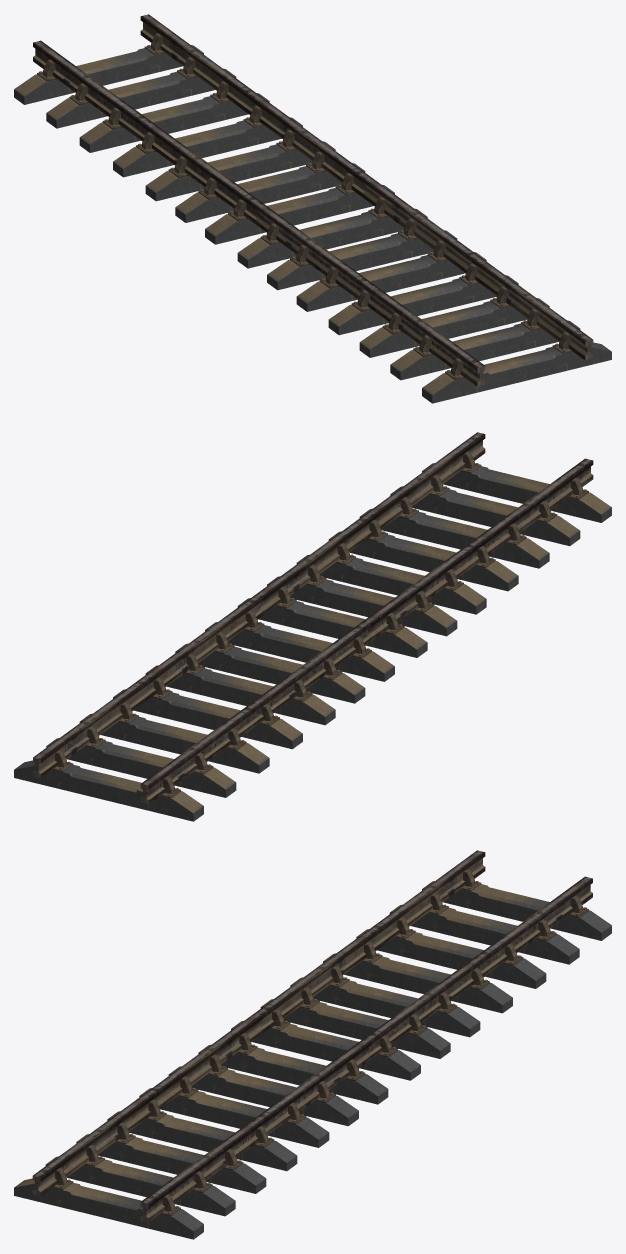
The model's file is SM_Tracks12m.FBX.
The picture shows the model from 3 angles, top to bottom: view 1: azimuth 30°, elevation 25°; view 2: azimuth 150°, elevation 25°; view 3: azimuth 330°, elevation 25°; orthographic projection.
Visible parts, largest first — view 1: SM_Tracks12m; view 2: SM_Tracks12m; view 3: SM_Tracks12m.
Boxes of the visible parts, box(x1,y1,x2,y2) form: SM_Tracks12m: box(14, 14, 611, 403); SM_Tracks12m: box(14, 432, 611, 821); SM_Tracks12m: box(14, 850, 611, 1239).
Bounding box in the file's own units: 280 × 1200 × 56.
